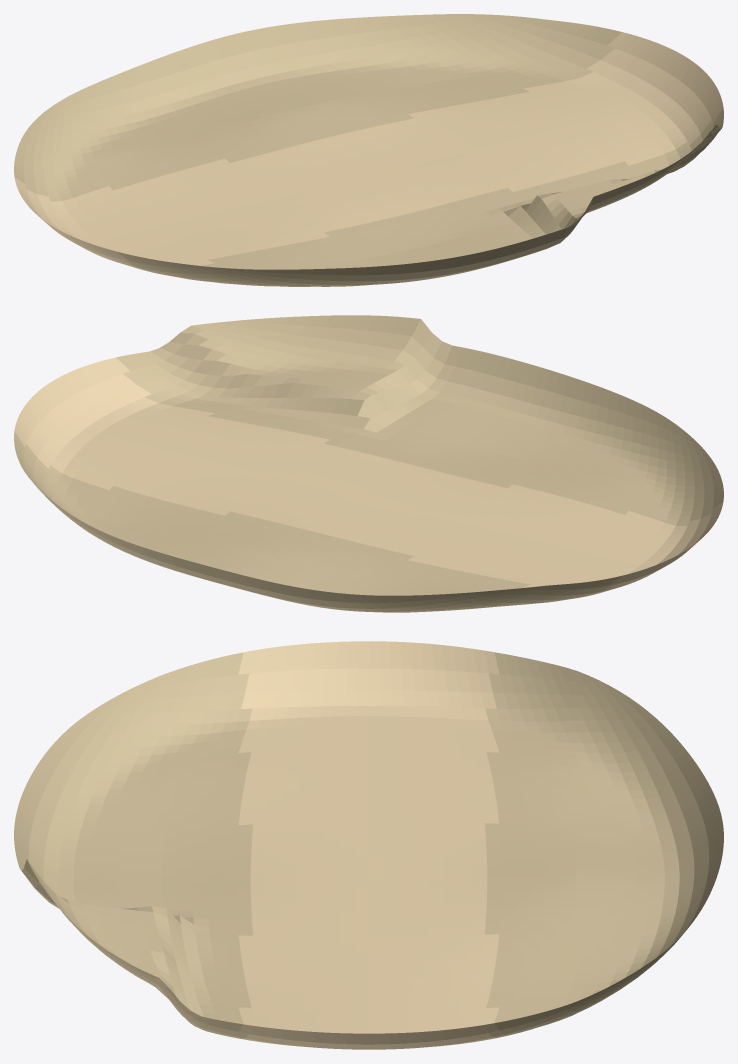
File: WesternGround.glb
The picture shows the model from 3 angles, top to bottom: view 1: azimuth 30°, elevation 25°; view 2: azimuth 150°, elevation 25°; view 3: azimuth 270°, elevation 25°; orthographic projection. The views are drawn at different scales.
Visible parts, largest first — view 1: WesternGround; view 2: WesternGround; view 3: WesternGround.
Boxes of the visible parts, <box> form: WesternGround: <box>14,14,723,286</box>; WesternGround: <box>14,315,723,612</box>; WesternGround: <box>14,641,723,1049</box>.
Bounding box in the file's own units: 68 × 6.35 × 52.
